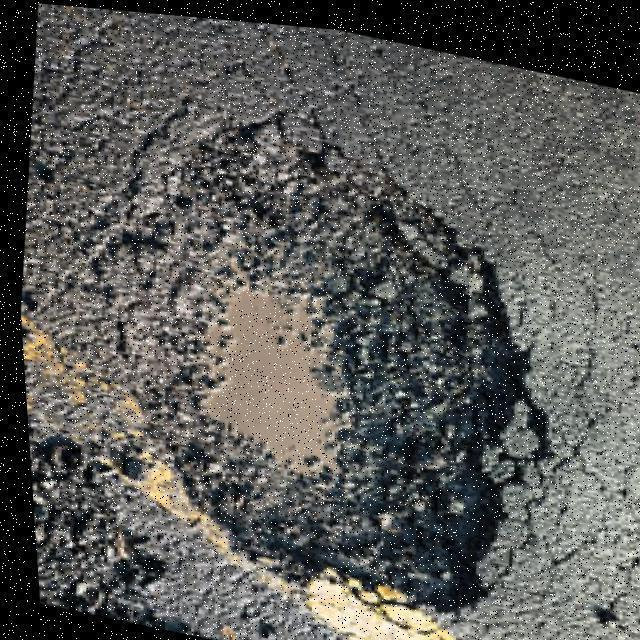Pothole: (82, 108, 564, 625)
